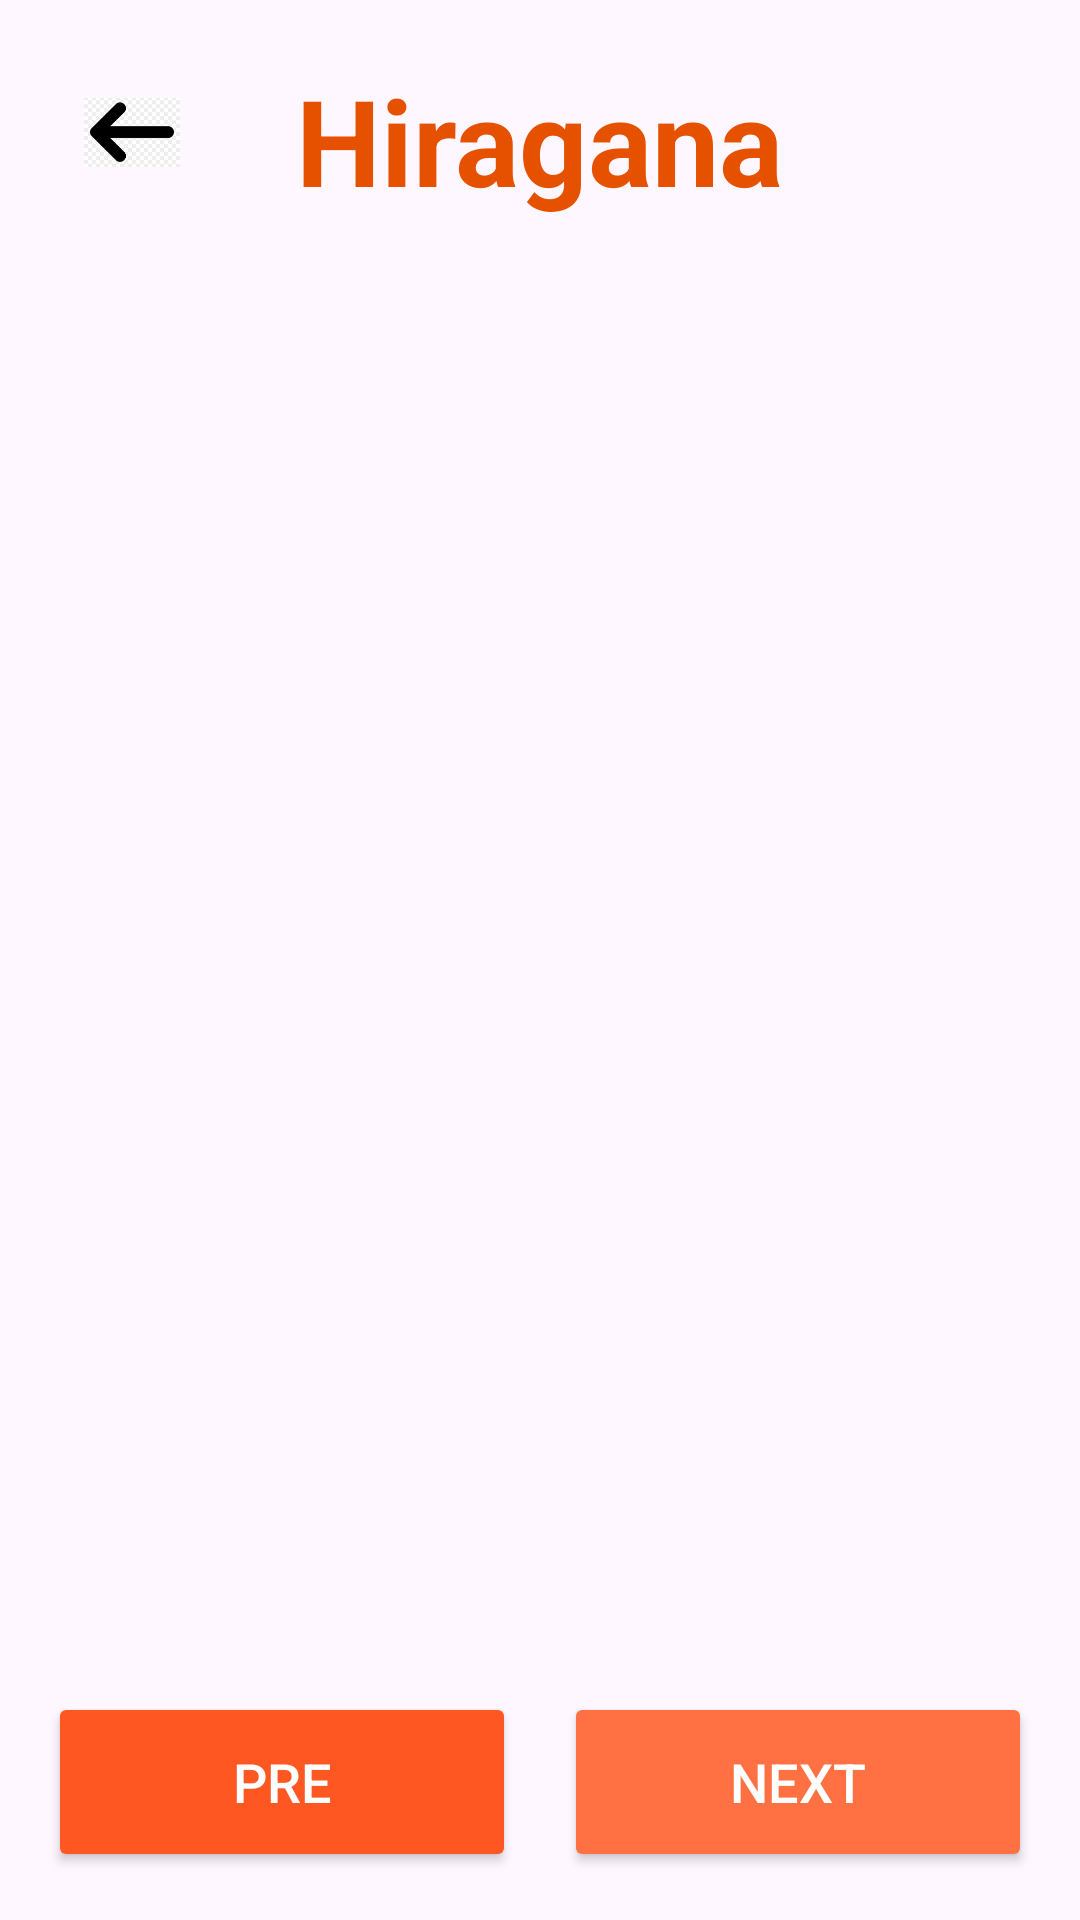

Named icons in this screenshot (1080*1920) and their bounding boxes, (x1, y1, x2, y2):
Powrót: (90, 102, 174, 162)
